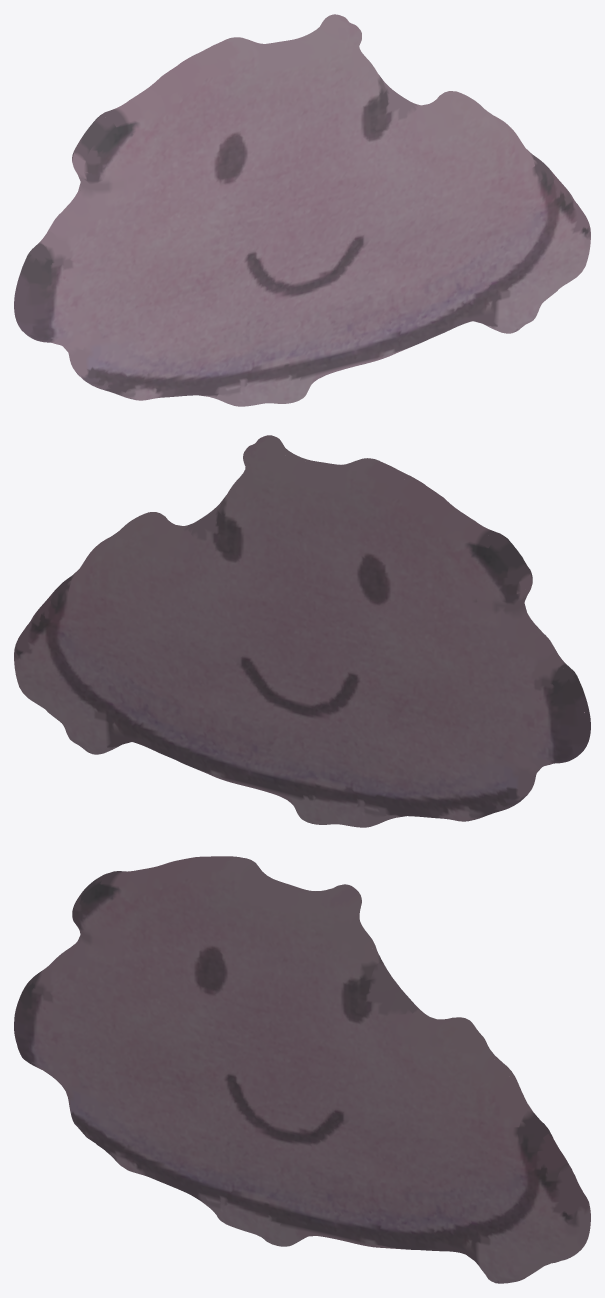
Rendered from jellyfish_l.gltf.
The picture shows the model from 3 angles, top to bottom: view 1: azimuth 30°, elevation 25°; view 2: azimuth 150°, elevation 25°; view 3: azimuth 330°, elevation 25°; orthographic projection.
Bounding box in the file's own units: 0.1643 × 0.1017 × 0.0107.
